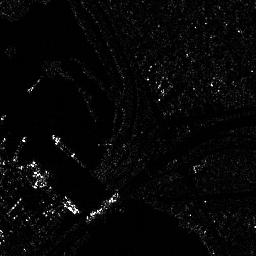ship: (49, 133, 78, 158)
